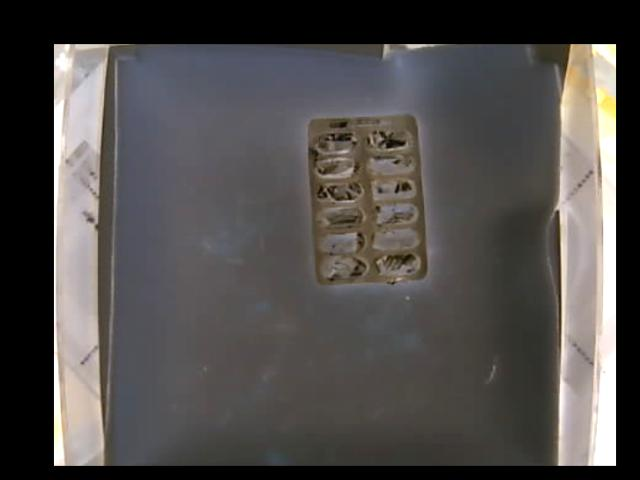Medicine: (308, 110, 424, 285)
